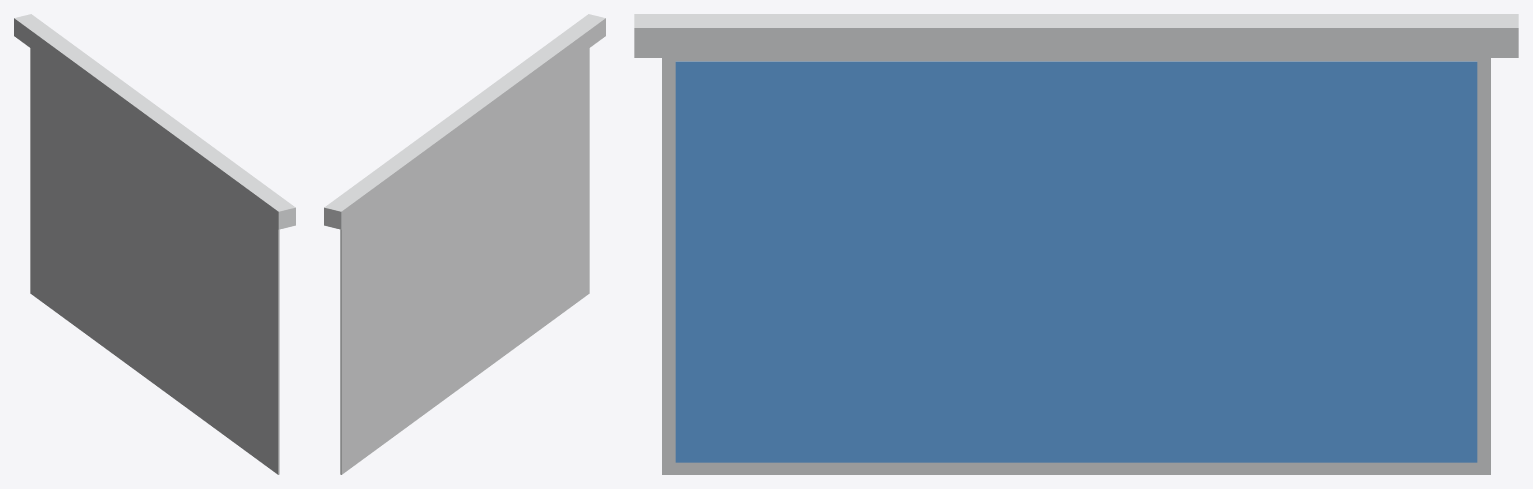
Rendered from SM_Prop_Projector.glb.
The picture shows the model from 3 angles, left to right: view 1: azimuth 30°, elevation 25°; view 2: azimuth 150°, elevation 25°; view 3: azimuth 270°, elevation 25°; orthographic projection. The views are drawn at different scales.
Parts seen in each view (by area): view 1: SM_Prop_Projector; view 2: SM_Prop_Projector; view 3: SM_Prop_Projector.
Boxes of the visible parts, bbox=[...] form: SM_Prop_Projector: bbox=[14, 14, 295, 474]; SM_Prop_Projector: bbox=[324, 14, 605, 474]; SM_Prop_Projector: bbox=[634, 14, 1518, 474].
Size of the model in its own units: 0.12 by 1.81 by 3.2.
